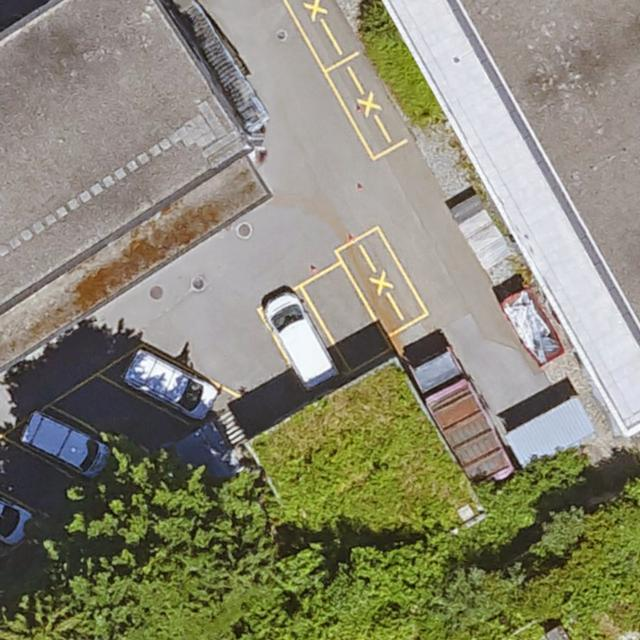tree: (49, 454, 257, 640), (535, 466, 640, 633), (275, 550, 437, 640), (443, 561, 527, 640)
